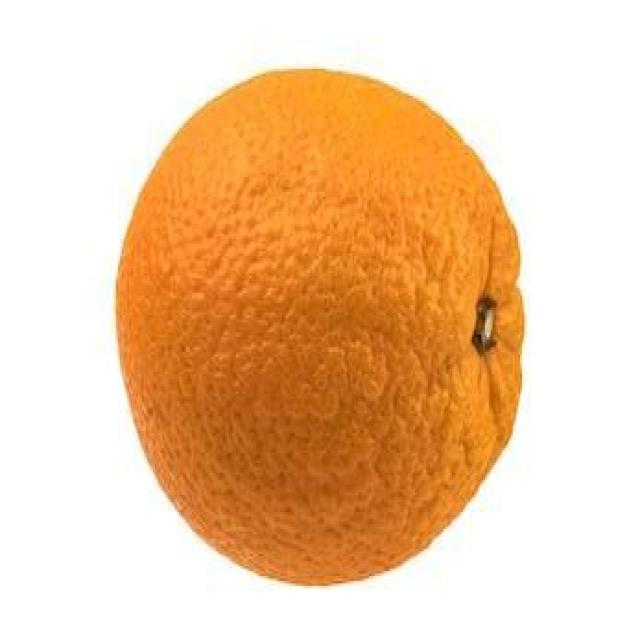orange: (114, 66, 524, 589)
